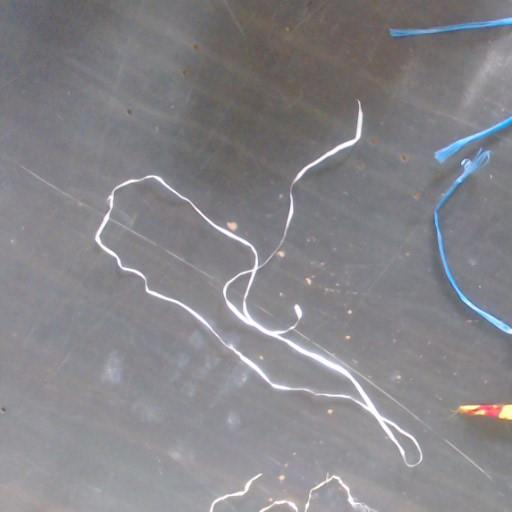conveyor belt: (440, 153, 511, 324)
packet: (457, 404, 511, 421)
thread: (95, 100, 422, 466), (434, 147, 511, 335), (434, 116, 511, 163), (303, 474, 376, 511), (390, 17, 511, 38), (209, 474, 262, 511), (259, 499, 300, 511), (459, 406, 498, 414)
